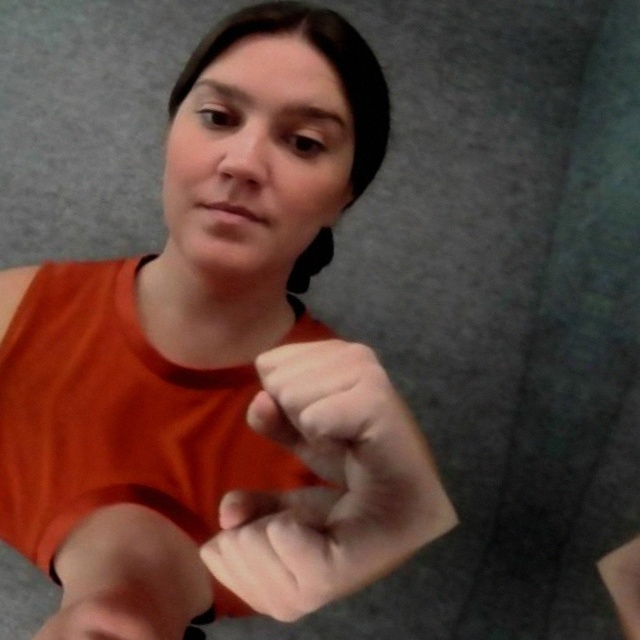Rock: (168, 261, 472, 512)
